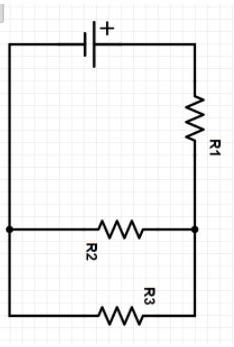Battery: (50, 11, 137, 89)
